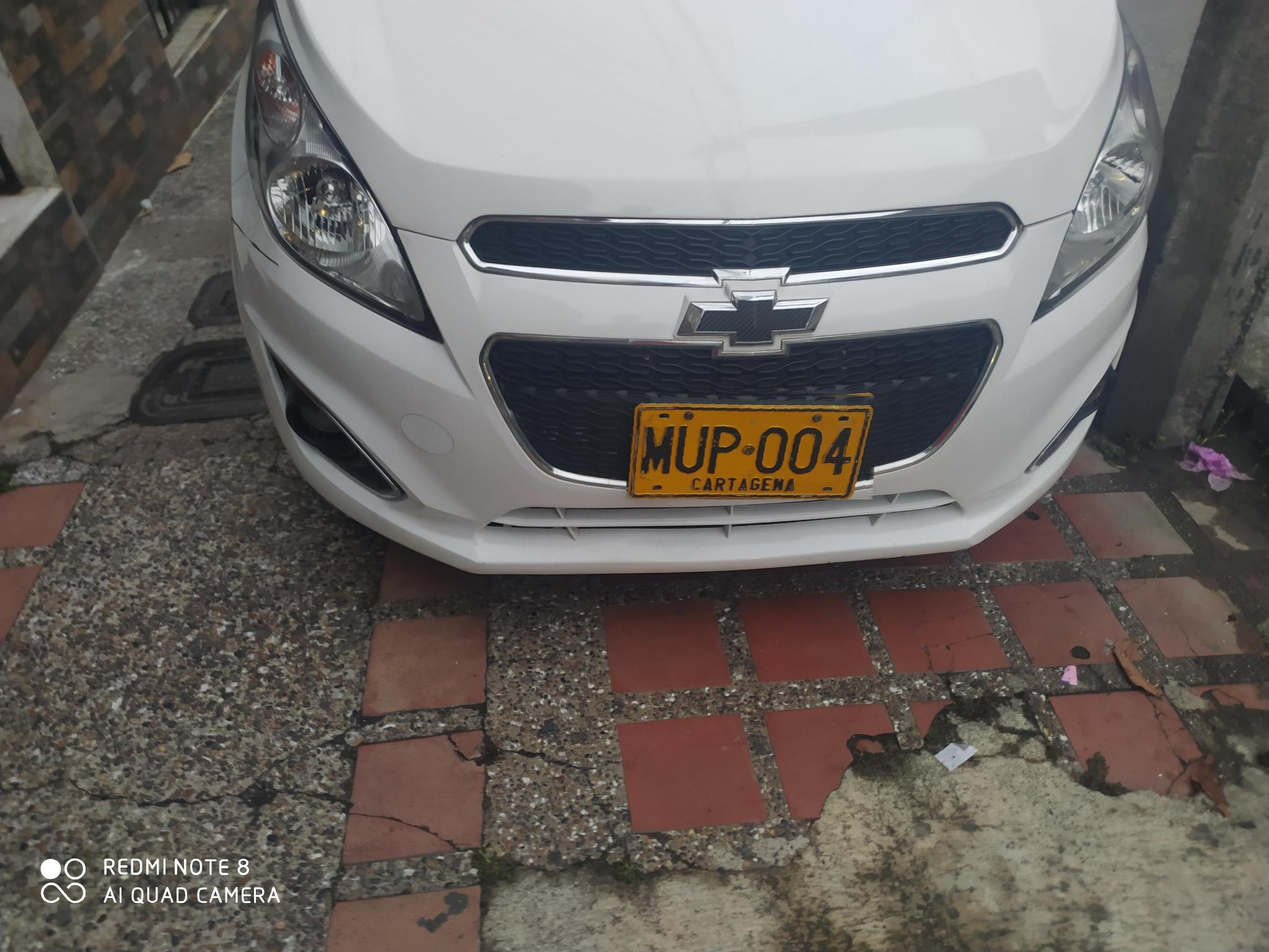placa: (626, 383, 879, 499)
